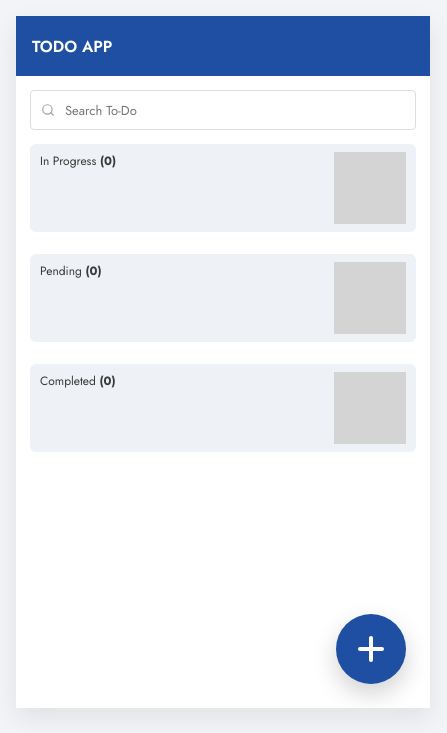
Test: App › adds a new task
Click the button at (371, 649), box [336,614,406,684]
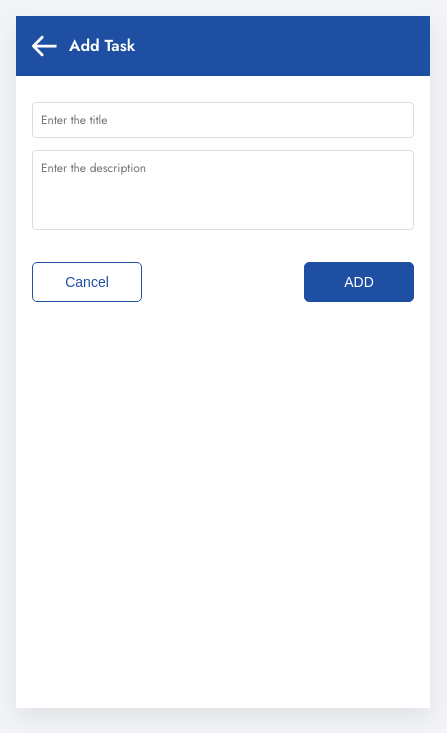
Type "My Task" into the field with placeholder "Enter the title" at (223, 120), box [32,102,414,138]
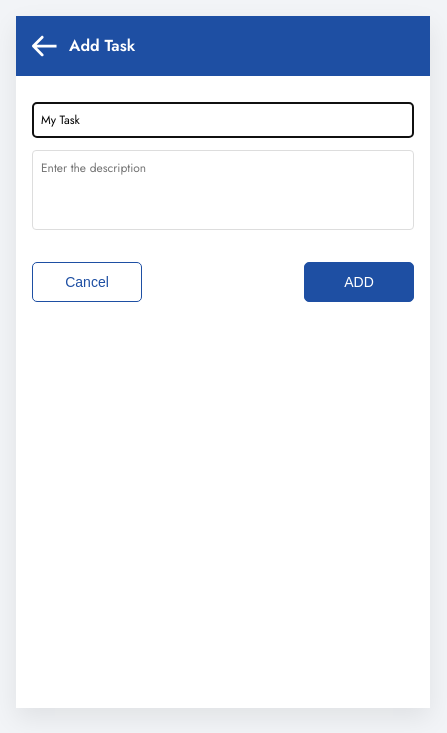
Click the button "ADD" at (359, 282), box [304,262,414,302]
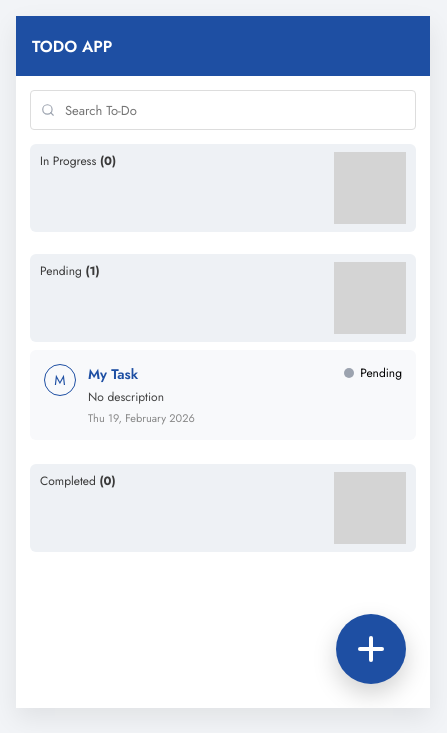
Now the text "My Task" is shown, box [88,364,138,384]
